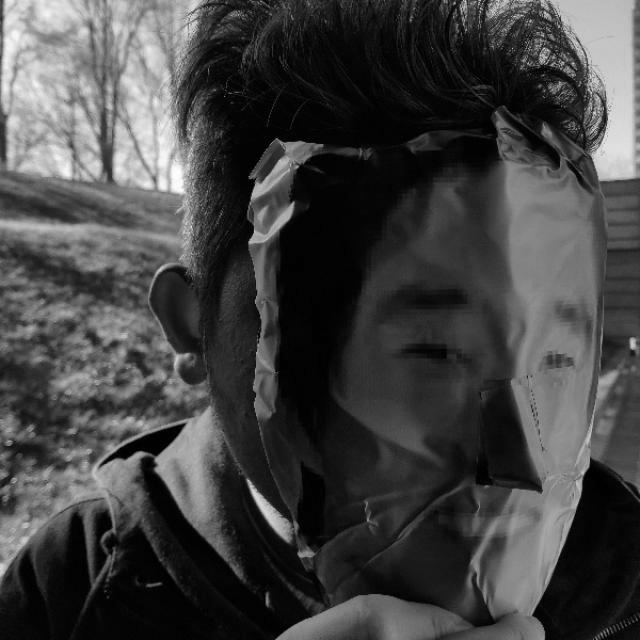fake: (179, 14, 614, 622)
